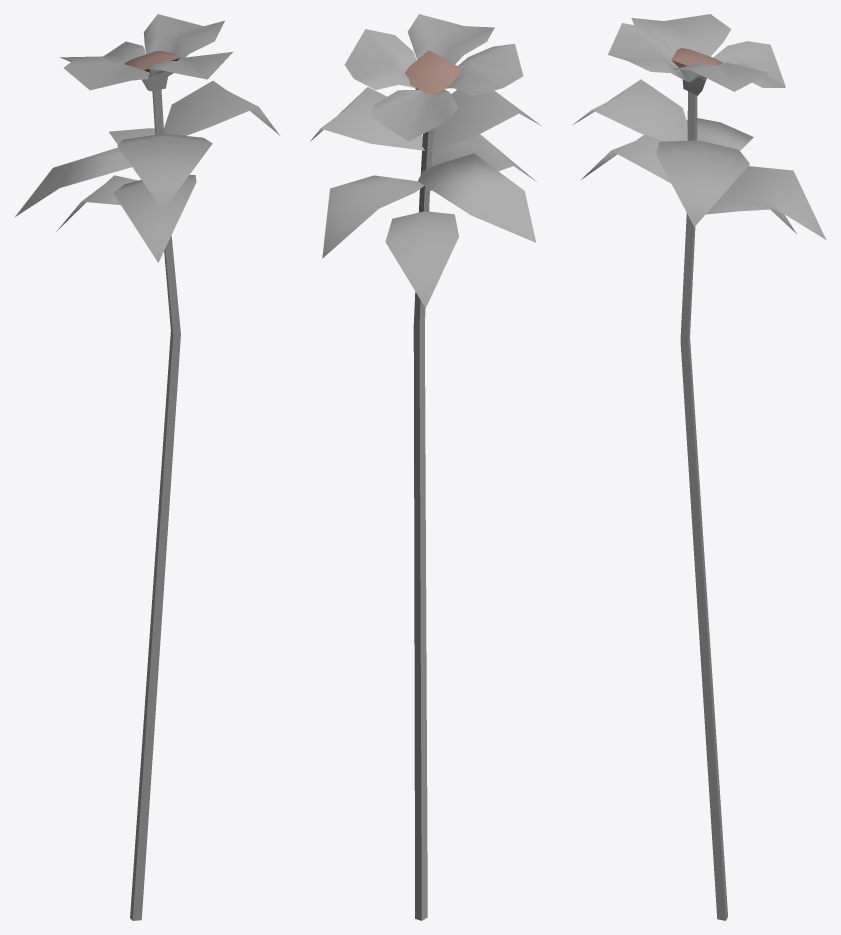
Rendered from Flower.fbx.
3 renders of one model, left to right at view 1: azimuth 30°, elevation 25°; view 2: azimuth 150°, elevation 25°; view 3: azimuth 270°, elevation 25°, orthographic. The views are drawn at different scales.
Visible parts, largest first — view 1: Flower; view 2: Flower; view 3: Flower.
Part boxes in pixels (bbox=[...]): Flower: bbox=[15, 14, 279, 920]; Flower: bbox=[310, 14, 541, 920]; Flower: bbox=[573, 14, 826, 920].
Bounding box in the file's own units: 34.39 × 117 × 30.62.
